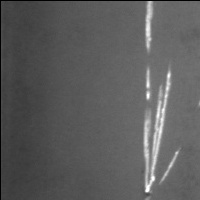scratches: (140, 67, 182, 200), (141, 1, 160, 52)
